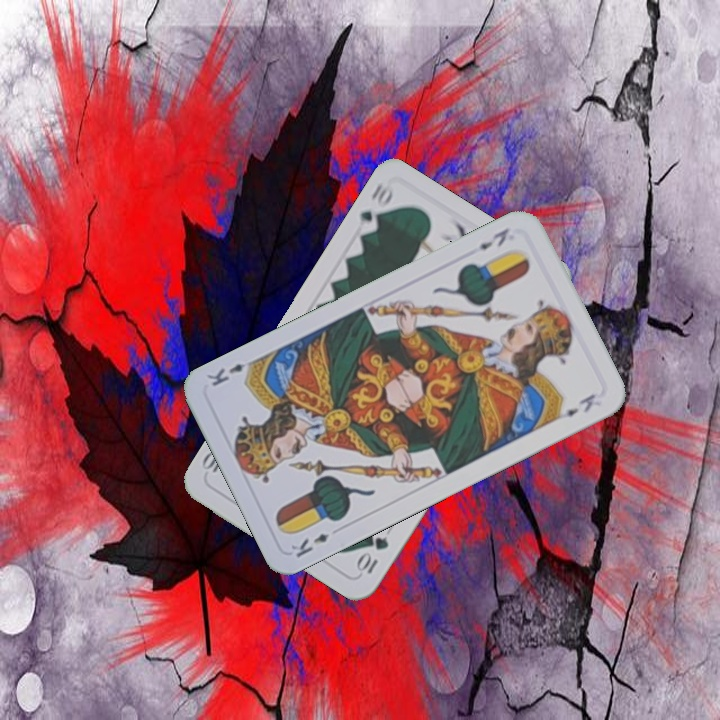EK: (286, 529, 331, 561), (474, 223, 512, 253)
G10: (353, 179, 396, 238), (352, 532, 392, 578)
